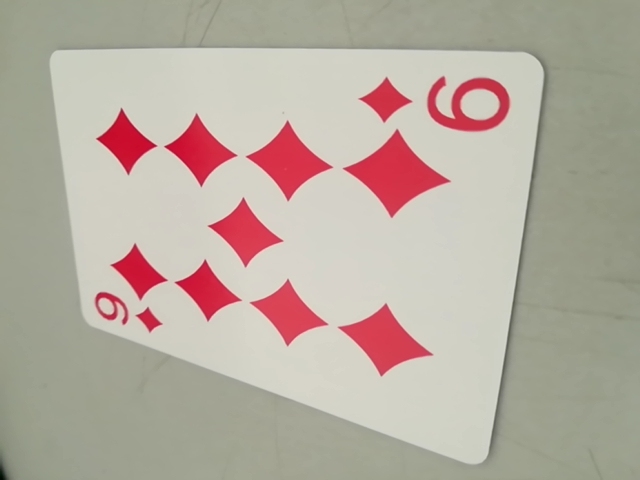fk 9: (364, 66, 515, 139), (86, 289, 170, 339)
